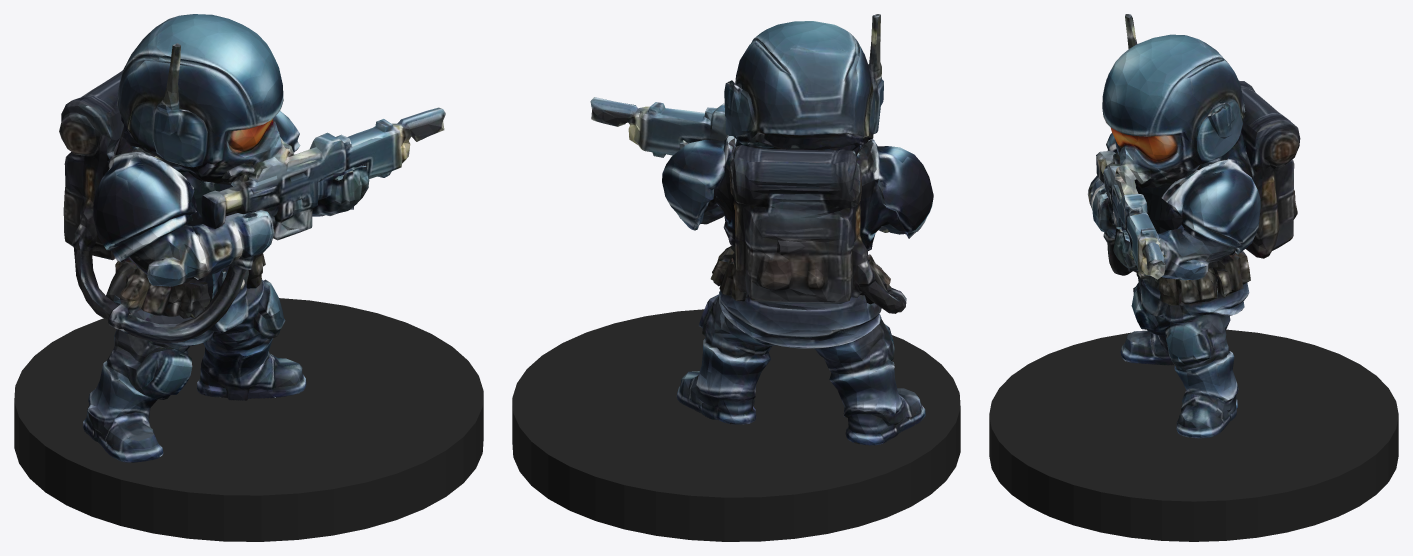
The model's file is ta-trooper.glb.
3 renders of one model, left to right at view 1: azimuth 30°, elevation 25°; view 2: azimuth 150°, elevation 25°; view 3: azimuth 270°, elevation 25°, orthographic. The views are drawn at different scales.
Visible parts, largest first — view 1: figure, base; view 2: figure, base; view 3: base, figure.
Boxes of the visible parts, <box> form: figure: <box>59,14,445,462</box>; base: <box>14,298,483,541</box>; figure: <box>590,14,933,445</box>; base: <box>512,309,960,541</box>; base: <box>989,329,1398,541</box>; figure: <box>1087,14,1300,438</box>.
Size of the model in its own units: 1.1 by 1.17 by 1.1.
Materials: 2 (1 with a texture image).
